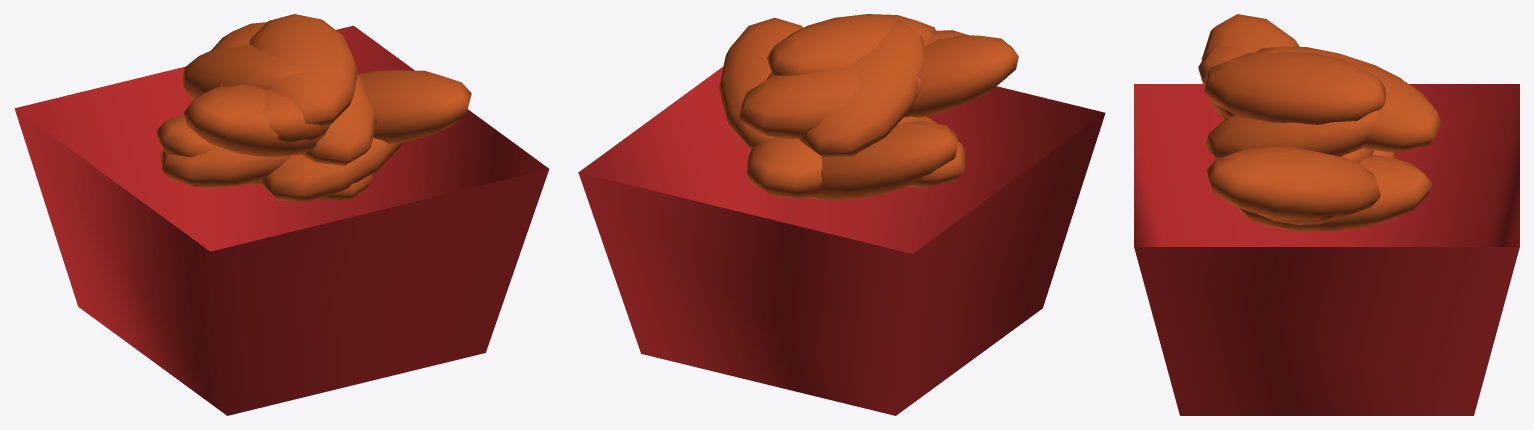
The model's file is bites-picante.glb.
The picture shows the model from 3 angles, left to right: view 1: azimuth 30°, elevation 25°; view 2: azimuth 150°, elevation 25°; view 3: azimuth 270°, elevation 25°; orthographic projection.
Bounding box in the file's own units: 0.1182 × 0.1 × 0.1182.
